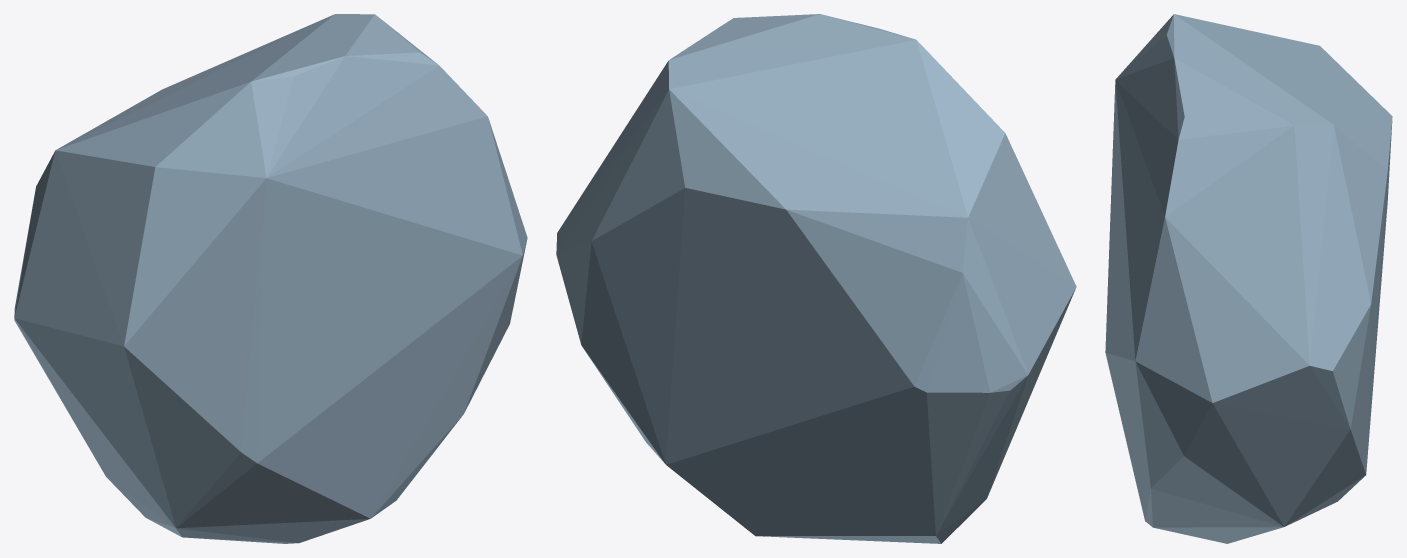
File: food_produce_squash_b01.glb
3 views of the same model, side by side, from view 1: azimuth 30°, elevation 25°; view 2: azimuth 150°, elevation 25°; view 3: azimuth 270°, elevation 25° (orthographic).
Parts seen in each view (by area): view 1: geometry_0; view 2: geometry_0; view 3: geometry_0.
Boxes of the visible parts, left/top/right/bottom form: geometry_0: left=14, top=14, right=527, bottom=543; geometry_0: left=556, top=14, right=1076, bottom=543; geometry_0: left=1105, top=14, right=1392, bottom=543.
Bounding box in the file's own units: 0.464 × 0.4617 × 0.2444.
